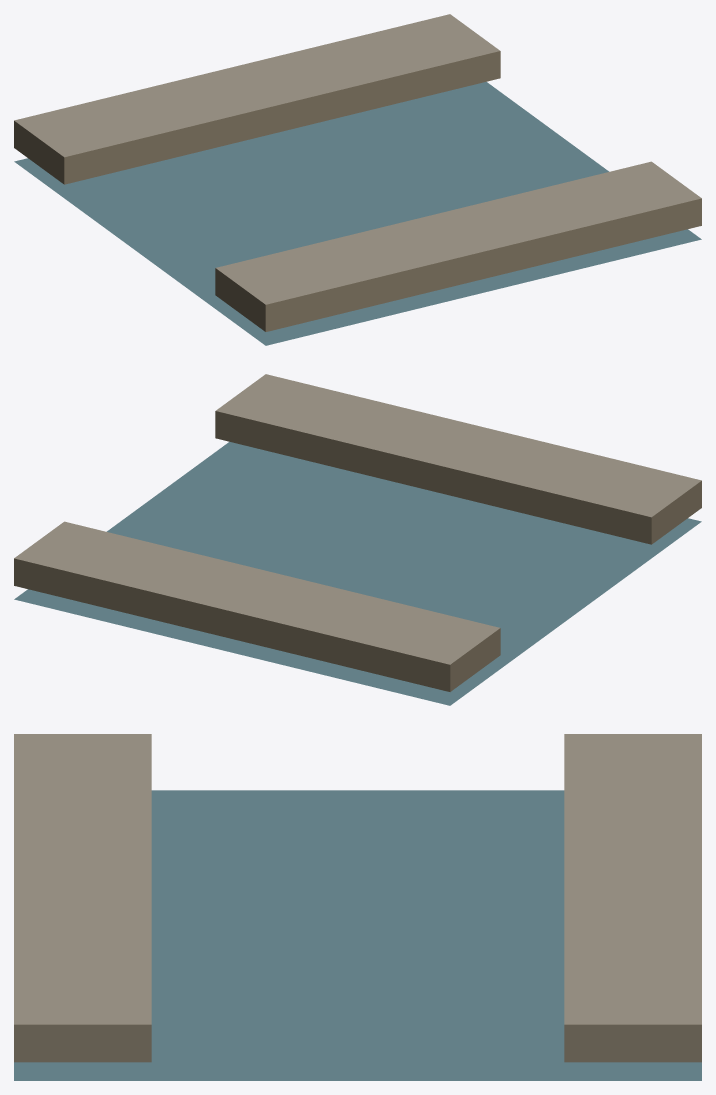
File: river.gltf
The picture shows the model from 3 angles, top to bottom: view 1: azimuth 30°, elevation 25°; view 2: azimuth 150°, elevation 25°; view 3: azimuth 270°, elevation 25°; orthographic projection. The views are drawn at different scales.
Visible parts, largest first — view 1: terrain-river; view 2: terrain-river; view 3: terrain-river.
Part boxes in pixels (bbox=[...]): terrain-river: bbox=[14, 14, 701, 345]; terrain-river: bbox=[14, 374, 701, 705]; terrain-river: bbox=[14, 734, 701, 1080].
Size of the model in its own units: 1 by 0.09 by 1.
